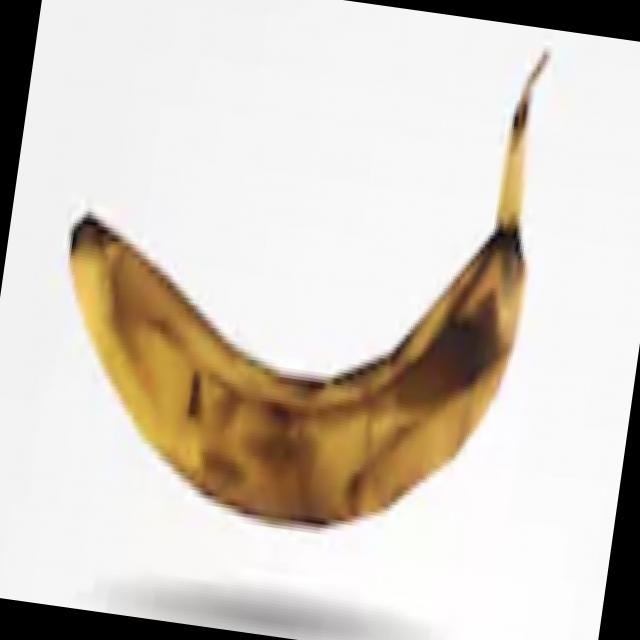rotten-banana: (38, 110, 543, 548)
